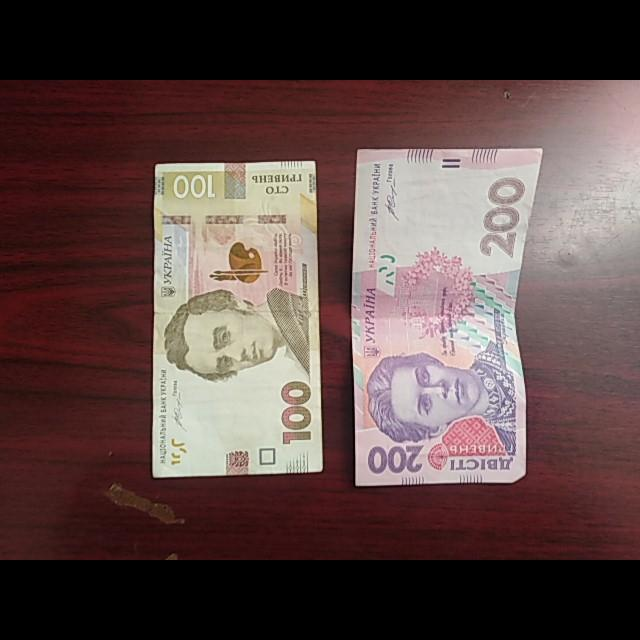100uah: (152, 161, 322, 480)
200uah: (352, 148, 542, 486)
